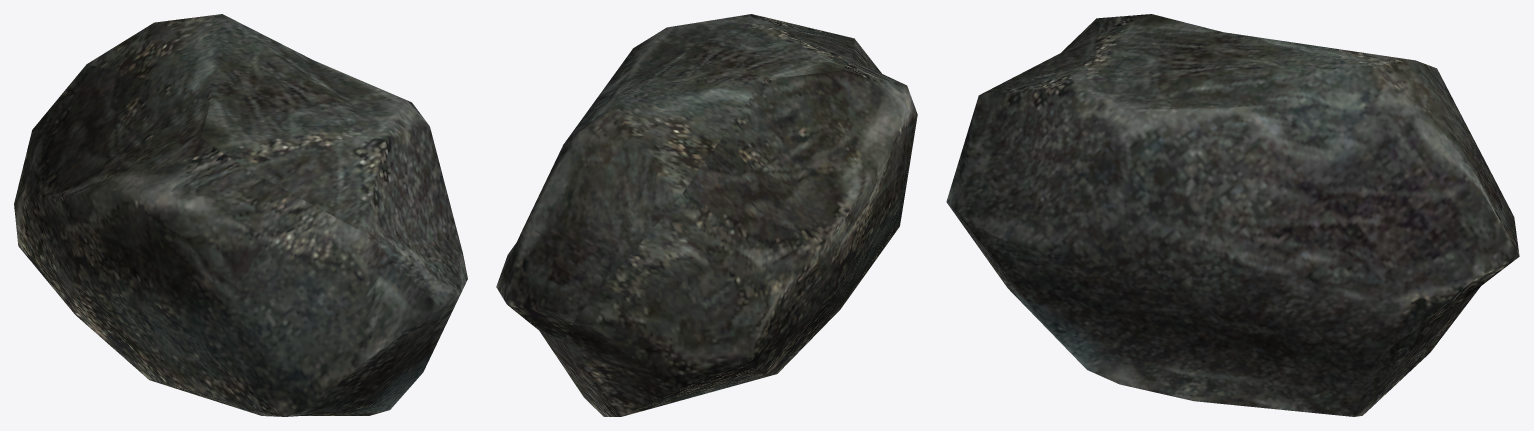
File: ruins_blackstone_debris_tiny01.dae
3 renders of one model, left to right at view 1: azimuth 30°, elevation 25°; view 2: azimuth 150°, elevation 25°; view 3: azimuth 270°, elevation 25°, orthographic. The views are drawn at different scales.
Visible parts, largest first — view 1: 01; view 2: 01; view 3: 01.
Boxes of the visible parts, left/top/right/bottom form: 01: left=14, top=14, right=467, bottom=416; 01: left=496, top=14, right=917, bottom=416; 01: left=946, top=14, right=1519, bottom=416.
Size of the model in its own units: 0.1092 by 0.1146 by 0.1756.
